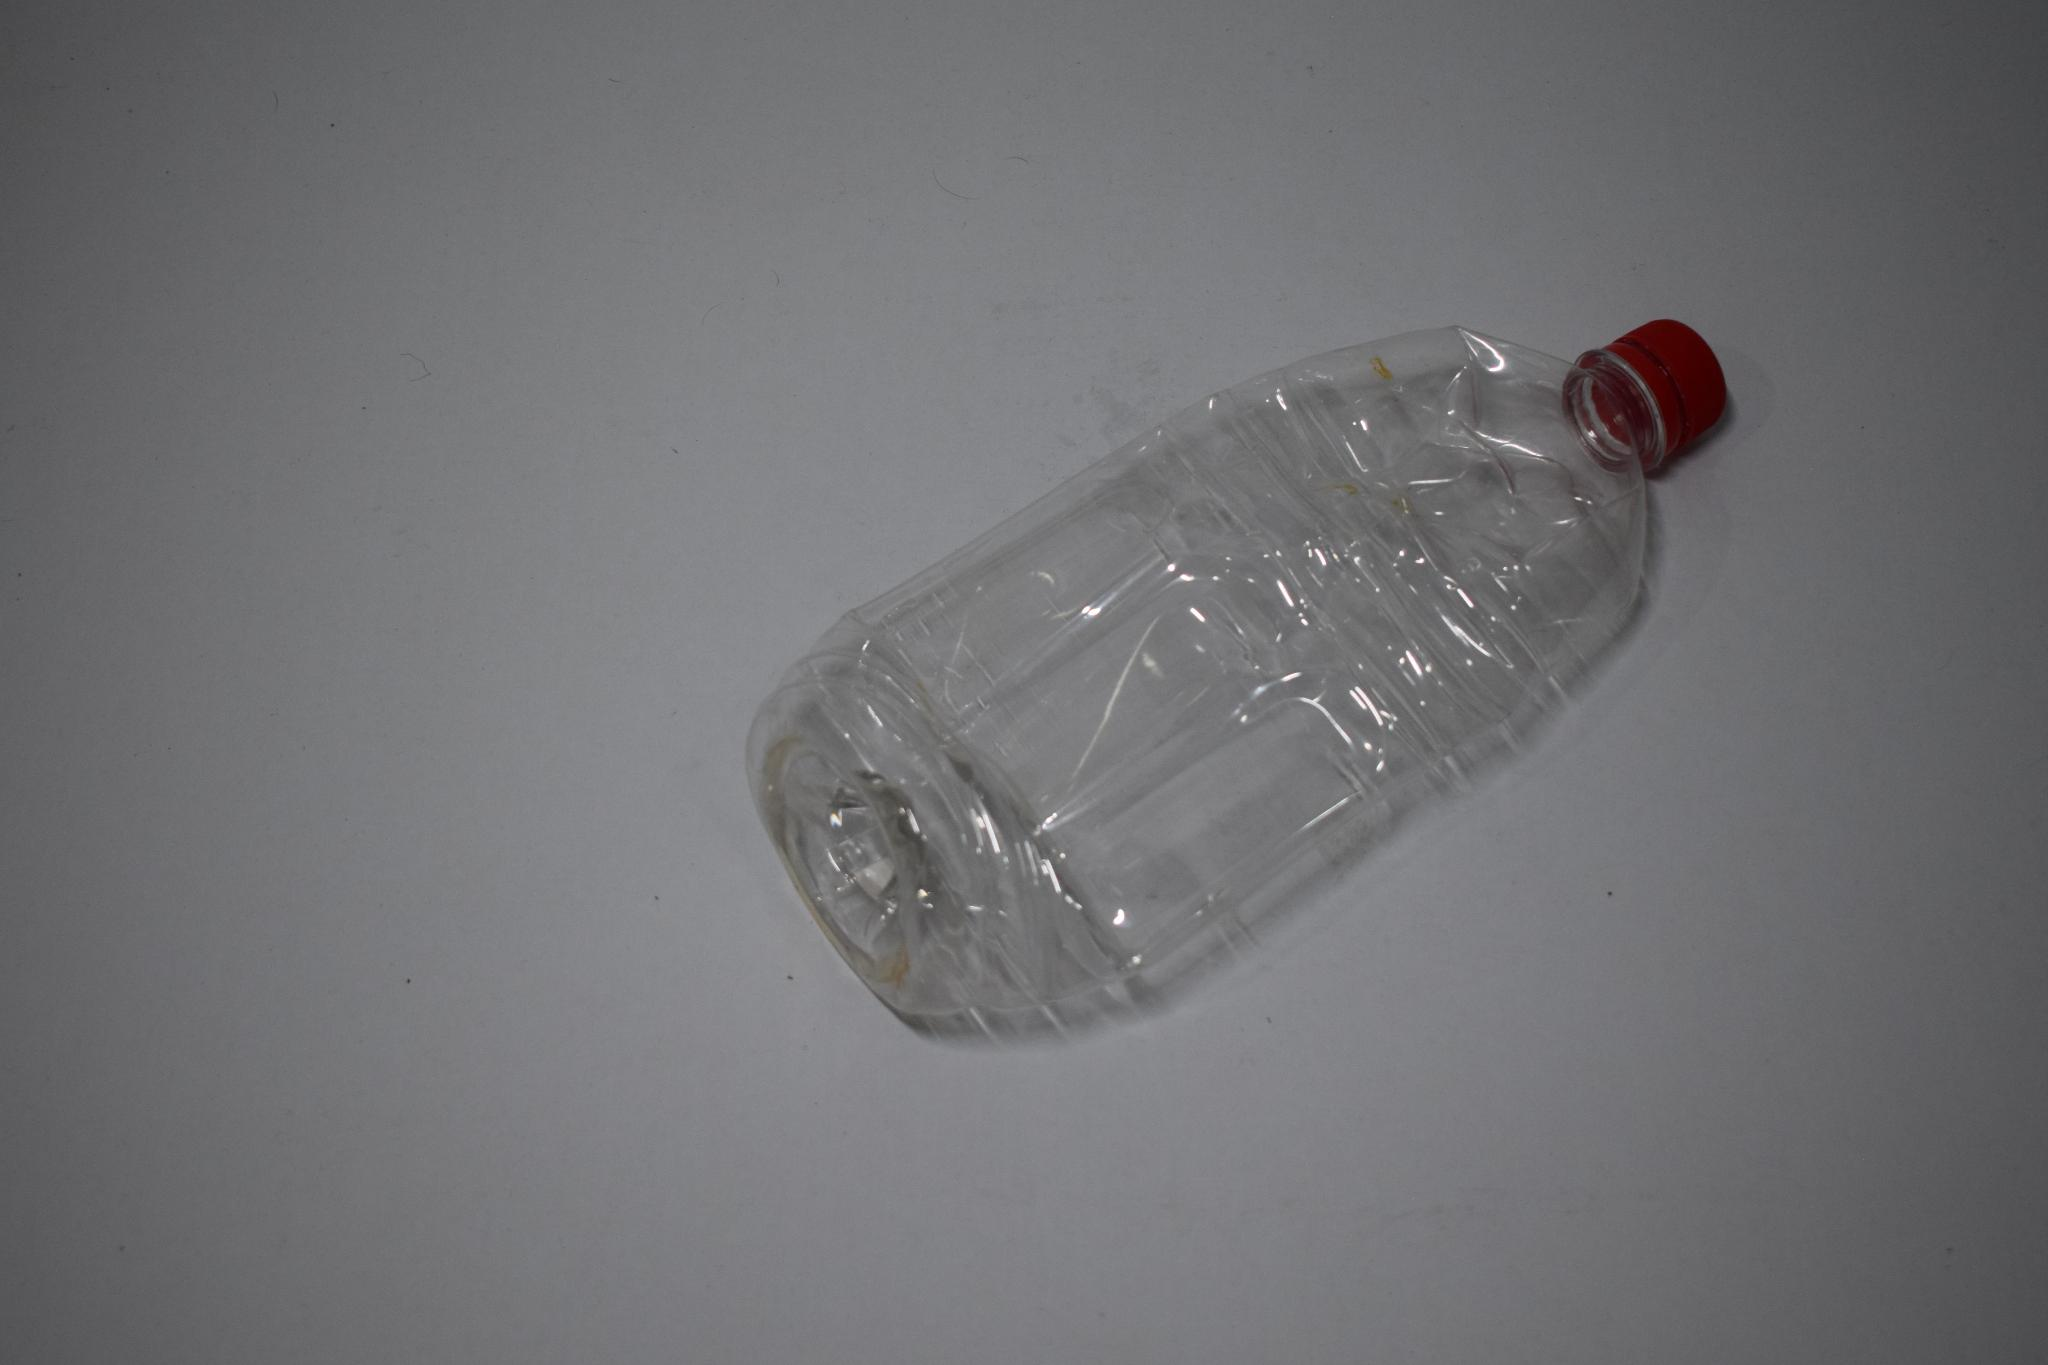bottle: (737, 264, 1737, 1078)
